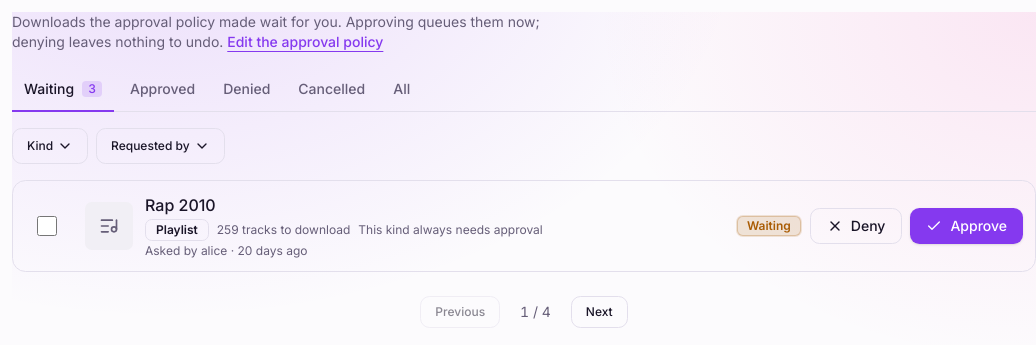
Administration › Requests: the list › is paginated by the server
Click the button "Next". click: (599, 312)
box: [571,296,628,328]
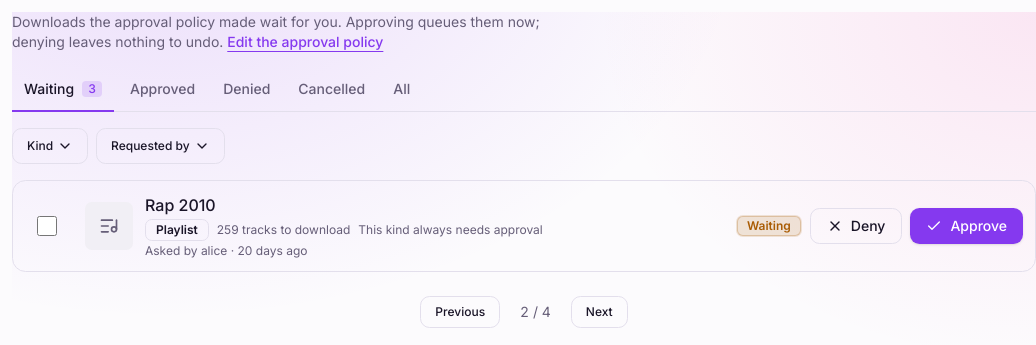
Check: the text "2 / 4" is shown, box [520,303,551,320]
